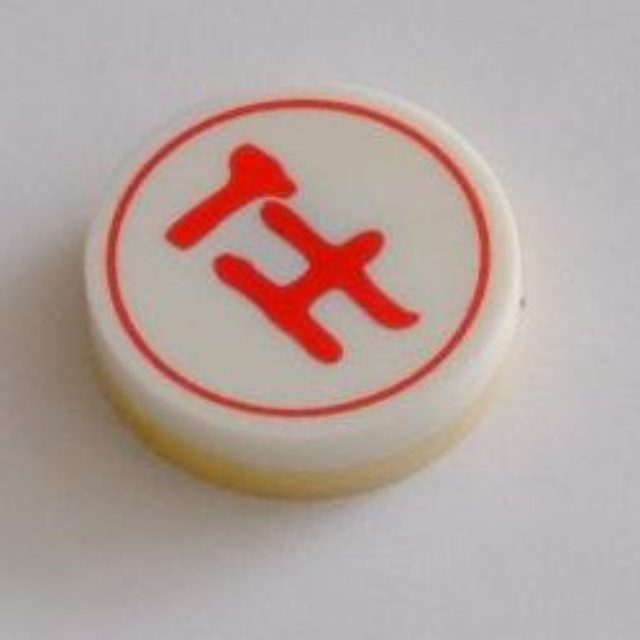red_si: (66, 71, 540, 501)
